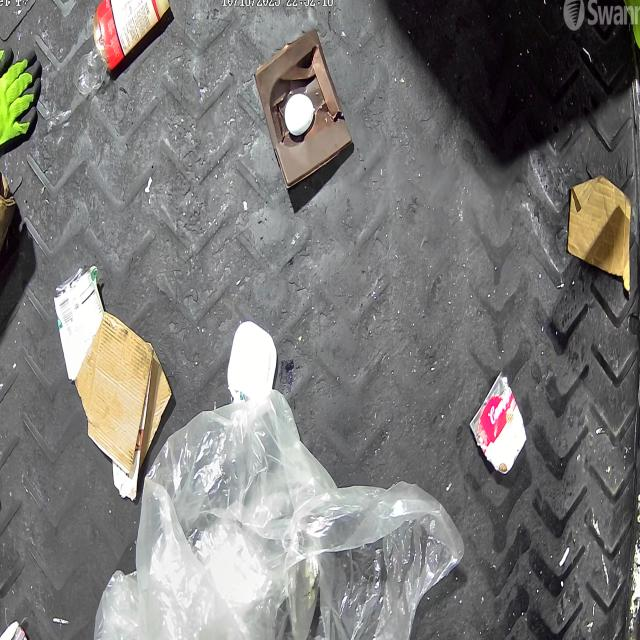can: (53, 262, 105, 381), (470, 372, 528, 475)
